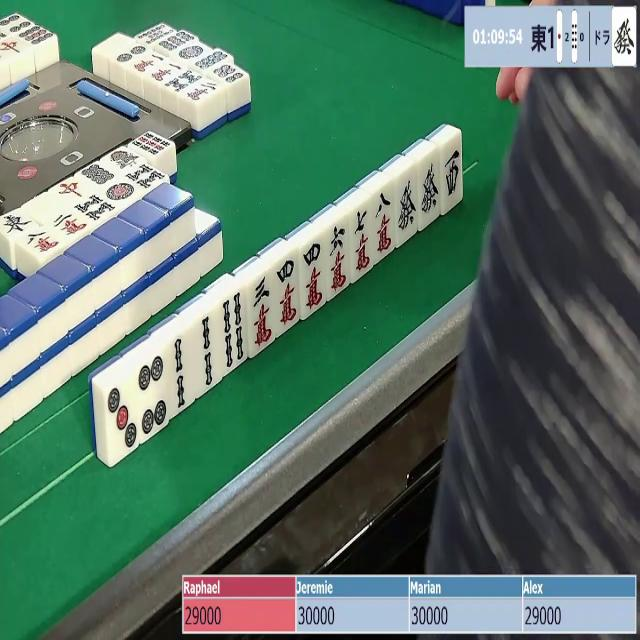fa: (418, 156, 441, 225), (395, 173, 417, 242), (614, 10, 637, 66)
m3: (247, 274, 277, 354)
m4: (300, 240, 329, 316), (273, 253, 301, 330)
m6: (328, 221, 353, 296)
m7: (350, 204, 375, 280)
m8: (373, 185, 396, 258)
s2: (170, 331, 198, 414), (195, 312, 223, 394)
s4: (221, 292, 250, 375)
s8: (124, 162, 168, 194)
t3: (106, 378, 137, 460)
t4: (135, 350, 170, 440)
t8: (194, 50, 230, 74)
west: (443, 141, 463, 207)
